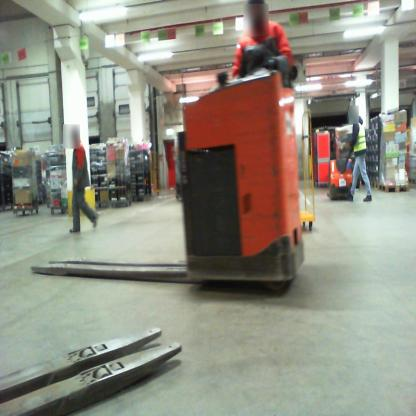pallet: (378, 180, 407, 194), (369, 177, 378, 191), (408, 176, 416, 186)
pallet_truck: (22, 55, 311, 299), (1, 316, 190, 411), (322, 143, 358, 202)
